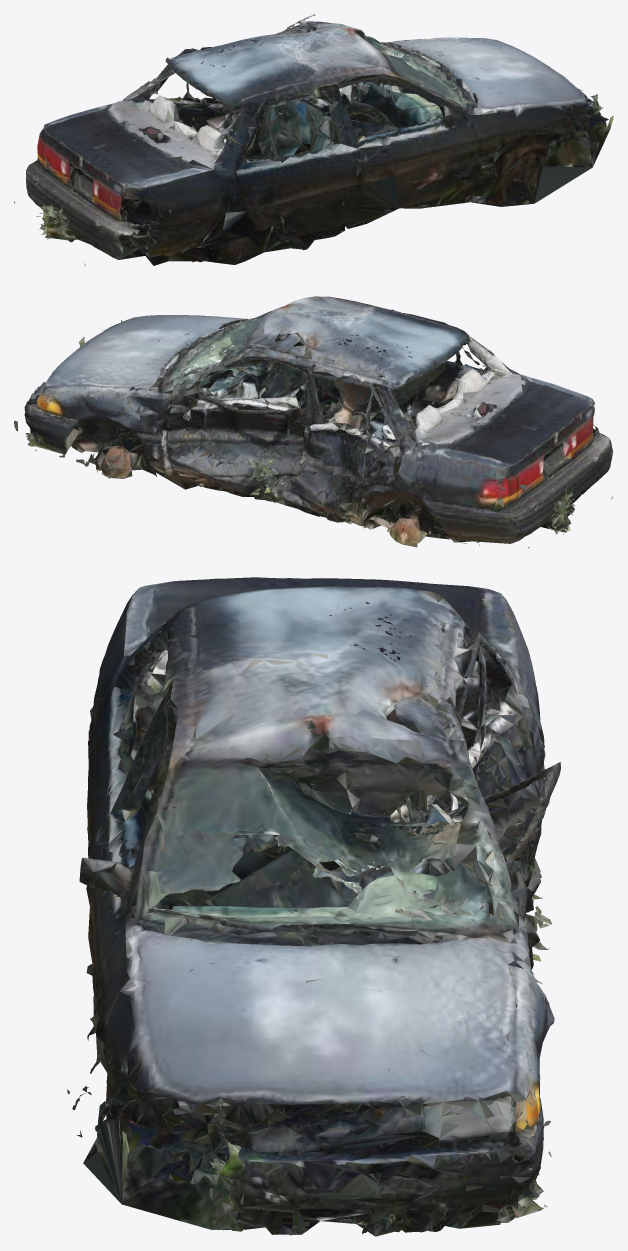
File: car_scan_02.glb
The picture shows the model from 3 angles, top to bottom: view 1: azimuth 30°, elevation 25°; view 2: azimuth 150°, elevation 25°; view 3: azimuth 270°, elevation 25°; orthographic projection. The views are drawn at different scales.
Parts seen in each view (by area): view 1: Object_2; view 2: Object_2; view 3: Object_2.
Part boxes in pixels (left/top/right/bottom): Object_2: left=14, top=14, right=613, bottom=266; Object_2: left=14, top=296, right=613, bottom=548; Object_2: left=67, top=577, right=560, bottom=1236.
Size of the model in its own units: 4.53 by 1.35 by 1.84.
1 material, 1 textured.
